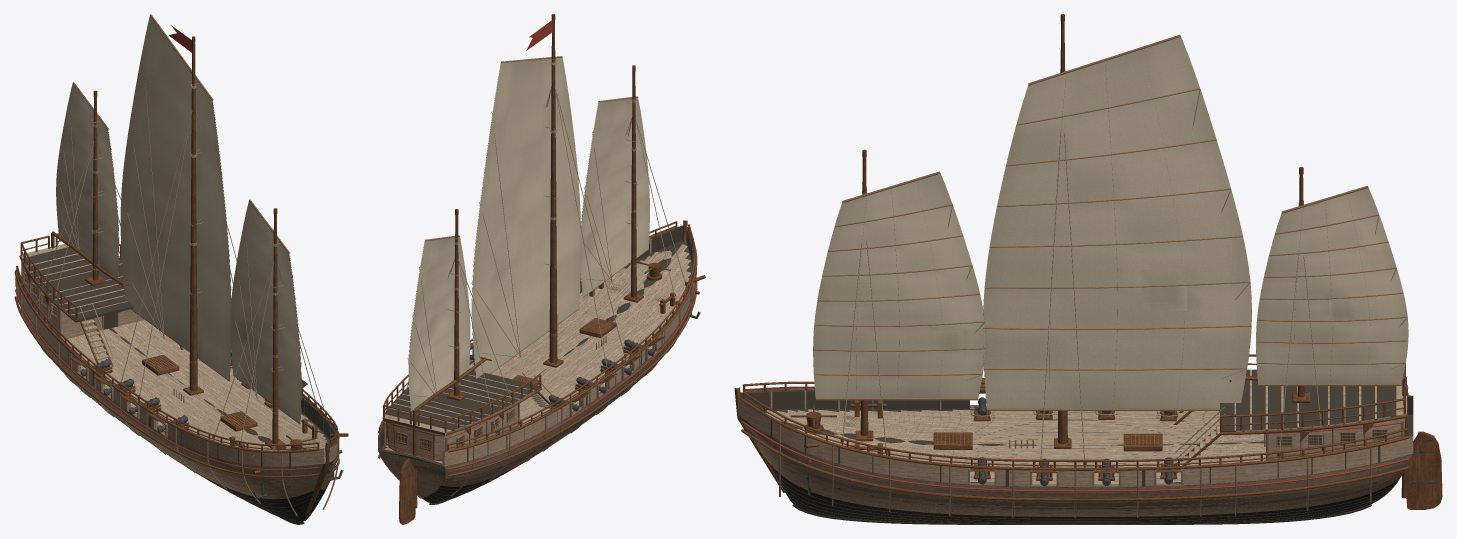
Rendered from fuchuan-lod1.glb.
3 renders of one model, left to right at view 1: azimuth 30°, elevation 25°; view 2: azimuth 150°, elevation 25°; view 3: azimuth 270°, elevation 25°, orthographic. The views are drawn at different scales.
Parts seen in each view (by area): view 1: sail_1, hull, deck, sail_0, sail_2, shadow_deck, deck_fittings, bulwark_rails, mast_timber_1, shadow_hull, sterncastle, mast_timber_0 (+8 smaller); view 2: sail_1, deck, hull, sail_0, sail_2, shadow_deck, deck_fittings, shadow_hull, bulwark_rails, mast_timber_1, mast_timber_0, stern_transom (+9 smaller); view 3: sail_1, hull, sail_0, sail_2, deck, shadow_hull, shadow_deck, bulwark_rails, deck_fittings, rudder_blade, sterncastle, rigging_1.
Boxes of the visible parts, x1,y1,x2,y2 form: sail_1: (120,14,231,381); hull: (14,270,339,524); deck: (19,244,330,450); sail_0: (230,199,301,424); sail_2: (56,82,119,278); shadow_deck: (22,247,133,322); deck_fittings: (21,262,348,498); bulwark_rails: (16,233,338,452); mast_timber_1: (189,43,197,390); shadow_hull: (15,270,337,521); sterncastle: (23,266,144,339); mast_timber_0: (272,214,278,443); sail_1: (471,56,580,378); deck: (382,244,690,463); hull: (377,220,697,504); sail_0: (580,96,649,297); sail_2: (407,235,470,411); shadow_deck: (383,370,540,435); deck_fittings: (383,259,705,461); shadow_hull: (378,225,695,502); bulwark_rails: (378,221,695,451); mast_timber_1: (549,20,557,362); mast_timber_0: (631,71,636,297); stern_transom: (388,423,444,458); sail_1: (983,34,1251,410); hull: (734,387,1413,524); sail_0: (813,171,985,400); sail_2: (1256,185,1408,386); deck: (766,369,1407,484); shadow_hull: (738,390,1413,523); shadow_deck: (1220,369,1396,432); bulwark_rails: (742,354,1408,467); deck_fittings: (790,385,1407,494); rudder_blade: (1406,431,1442,509); sterncastle: (1266,418,1404,460); rigging_1: (1039,132,1086,473).
Bounding box in the file's own units: 10.4 × 26.65 × 33.55.
Materials: 13 (8 with a texture image).
